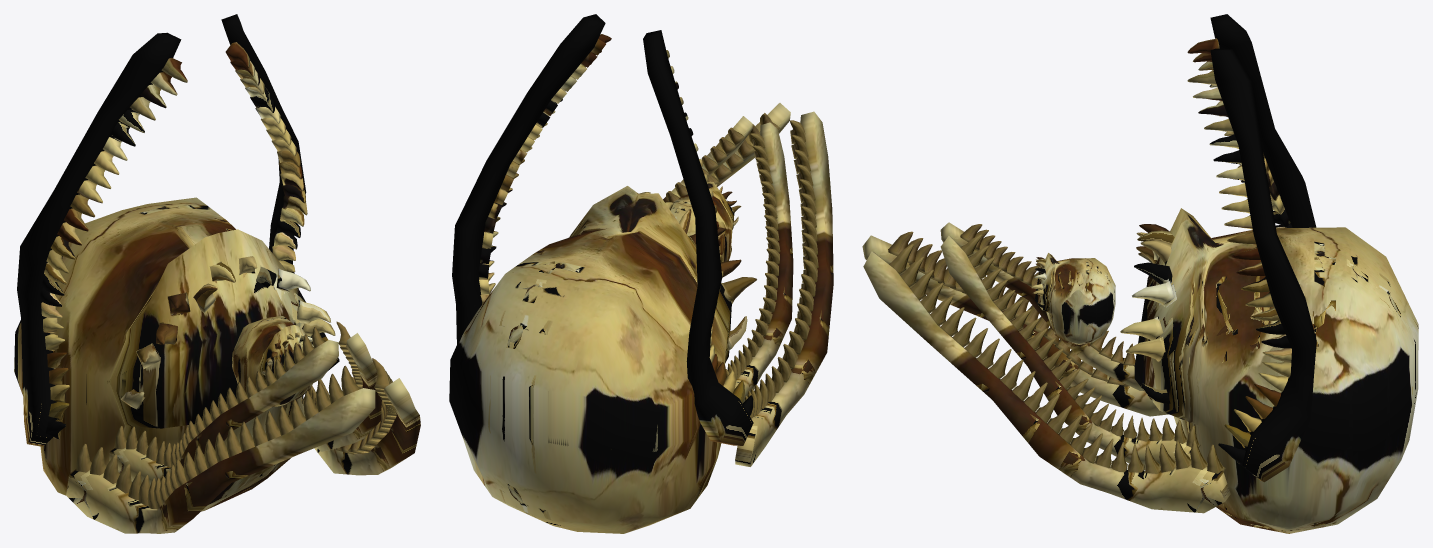
File: justHead.fbx
3 renders of one model, left to right at view 1: azimuth 30°, elevation 25°; view 2: azimuth 150°, elevation 25°; view 3: azimuth 270°, elevation 25°, orthographic. The views are drawn at different scales.
Parts seen in each view (by area): view 1: snakeHead, snakeHead.001; view 2: snakeHead, snakeHead.001; view 3: snakeHead, snakeHead.001.
Boxes of the visible parts, x1,y1,x2,y2 form: snakeHead: (14, 14, 381, 511); snakeHead.001: (66, 358, 420, 533); snakeHead: (449, 14, 793, 533); snakeHead.001: (708, 103, 833, 466); snakeHead: (940, 14, 1418, 533); snakeHead.001: (862, 231, 1230, 513).
Size of the model in its own units: 194 by 309 by 324.
1 material, 1 textured.
